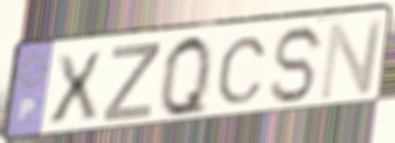C: (214, 35, 270, 107)
N: (316, 15, 388, 103)
Q: (159, 32, 214, 121)
S: (268, 23, 328, 108)
X: (46, 48, 105, 129)
Z: (100, 41, 163, 125)
